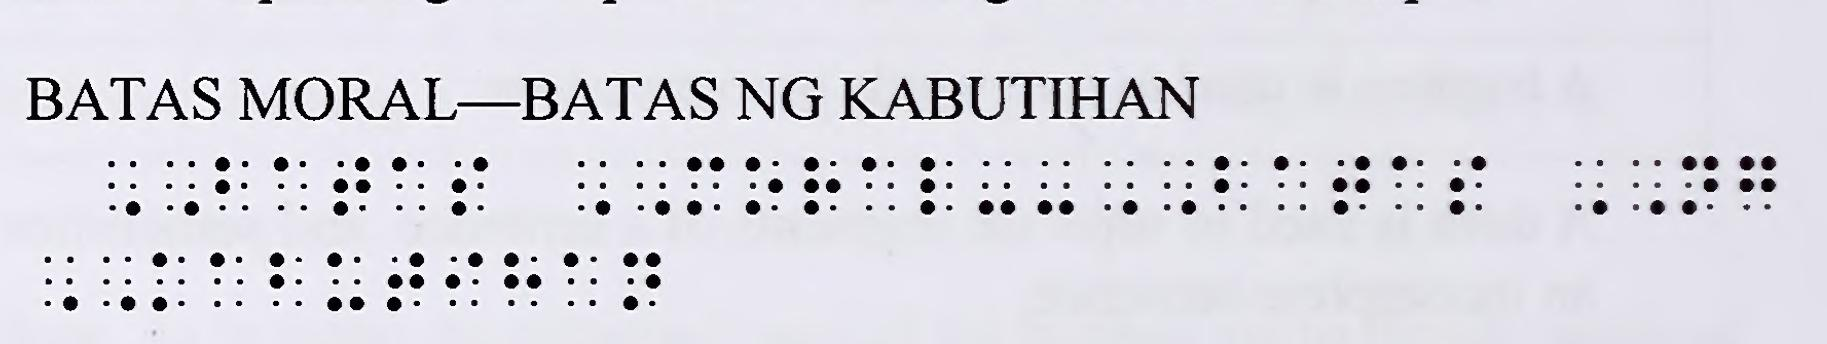B: (1214, 156, 1248, 212), (215, 156, 249, 211)
K: (153, 252, 186, 312)
M: (687, 157, 725, 216)
N: (1681, 156, 1719, 215)
a: (209, 251, 244, 307), (274, 157, 308, 212), (563, 252, 597, 307), (862, 156, 895, 212), (1274, 155, 1307, 211), (392, 156, 425, 211), (1391, 156, 1424, 211)
b: (269, 252, 304, 307)
capital: (45, 256, 79, 312), (1574, 160, 1608, 215), (108, 159, 140, 217), (637, 160, 670, 216), (166, 161, 199, 216), (578, 160, 611, 215), (1105, 160, 1138, 215), (103, 256, 136, 311), (1632, 160, 1664, 216), (1164, 160, 1196, 214)
g: (1740, 155, 1777, 211)
h: (504, 252, 541, 306)
i: (445, 252, 483, 306)
l: (919, 156, 953, 216)
n: (622, 252, 661, 310)
o: (746, 157, 784, 216)
r: (805, 156, 841, 216)
s: (451, 156, 489, 217), (1450, 155, 1487, 215)
t: (386, 252, 424, 311), (334, 157, 371, 217), (1334, 156, 1370, 215)
u: (328, 252, 365, 312)
